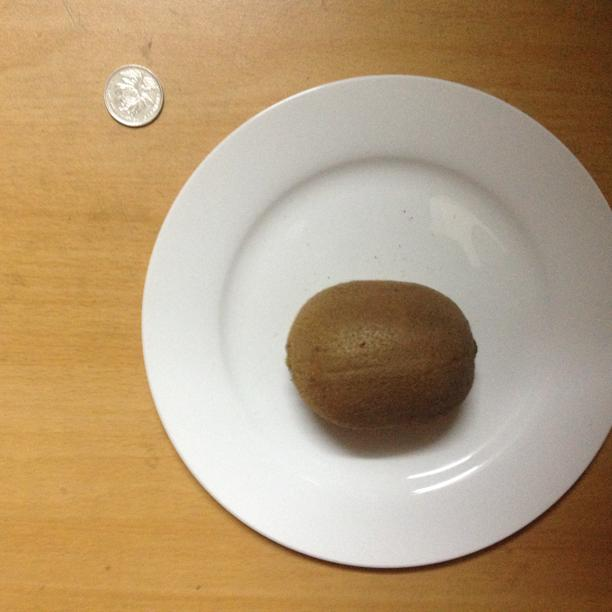coin: (102, 62, 165, 126)
qiwi: (285, 281, 478, 416)
